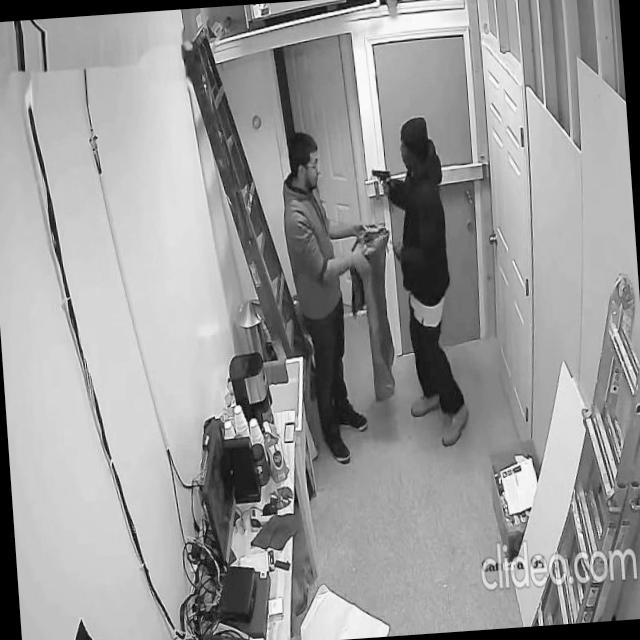gun: (370, 166, 393, 196)
person: (276, 127, 358, 470)
person with a gun: (369, 113, 472, 452)
